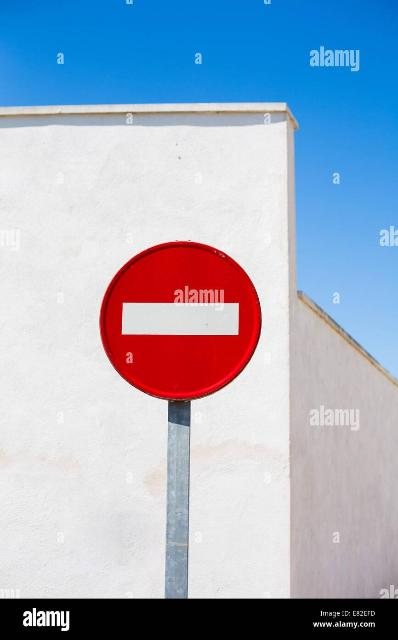B2: (98, 239, 262, 401)
